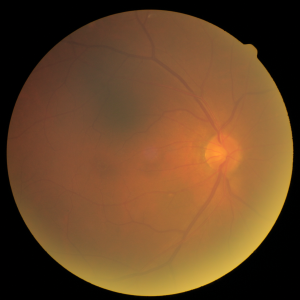cataract: (69, 93, 262, 216)
